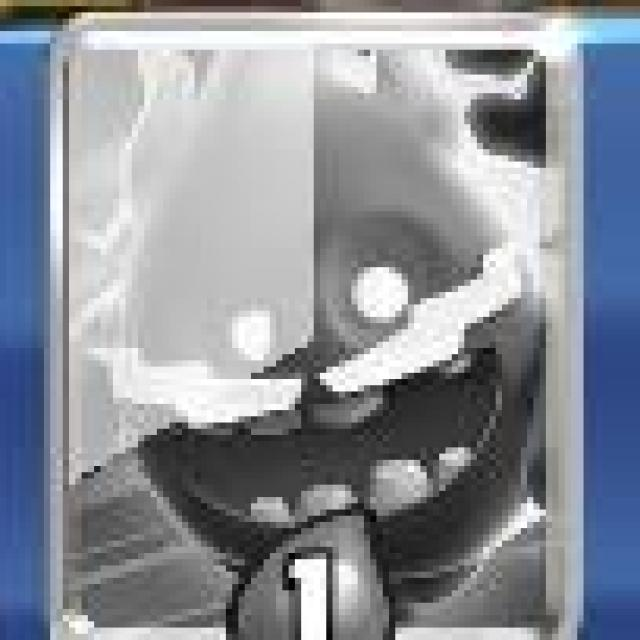Electro_Spirit: (51, 14, 578, 640)
